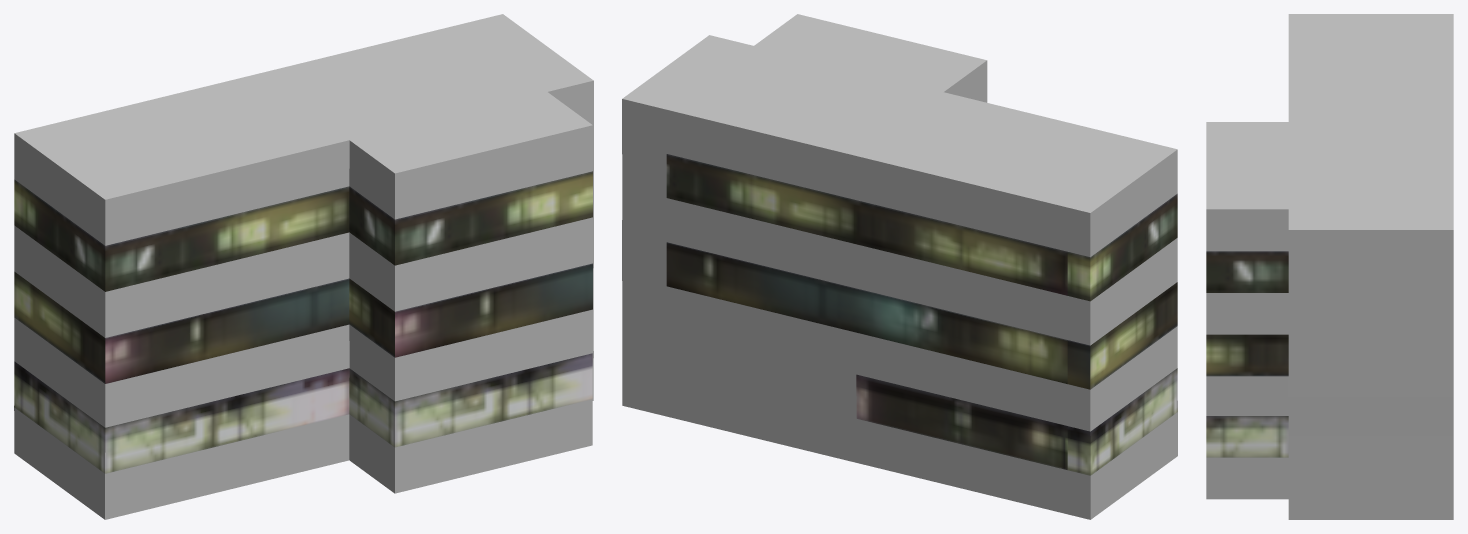
The model's file is hirise_parts06_3f.fbx.
3 renders of one model, left to right at view 1: azimuth 30°, elevation 25°; view 2: azimuth 150°, elevation 25°; view 3: azimuth 270°, elevation 25°, orthographic. The views are drawn at different scales.
Visible parts, largest first — view 1: hirise_parts06_3f; view 2: hirise_parts06_3f; view 3: hirise_parts06_3f.
Part boxes in pixels (x1,y1,x2,y2): hirise_parts06_3f: (14,14,593,519); hirise_parts06_3f: (622,14,1177,519); hirise_parts06_3f: (1206,14,1453,519).
Bounding box in the file's own units: 17.68 × 11.07 × 8.55.
